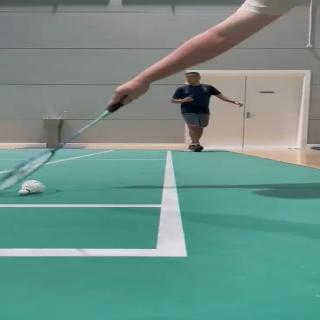Shuttle: (18, 180, 46, 196)
